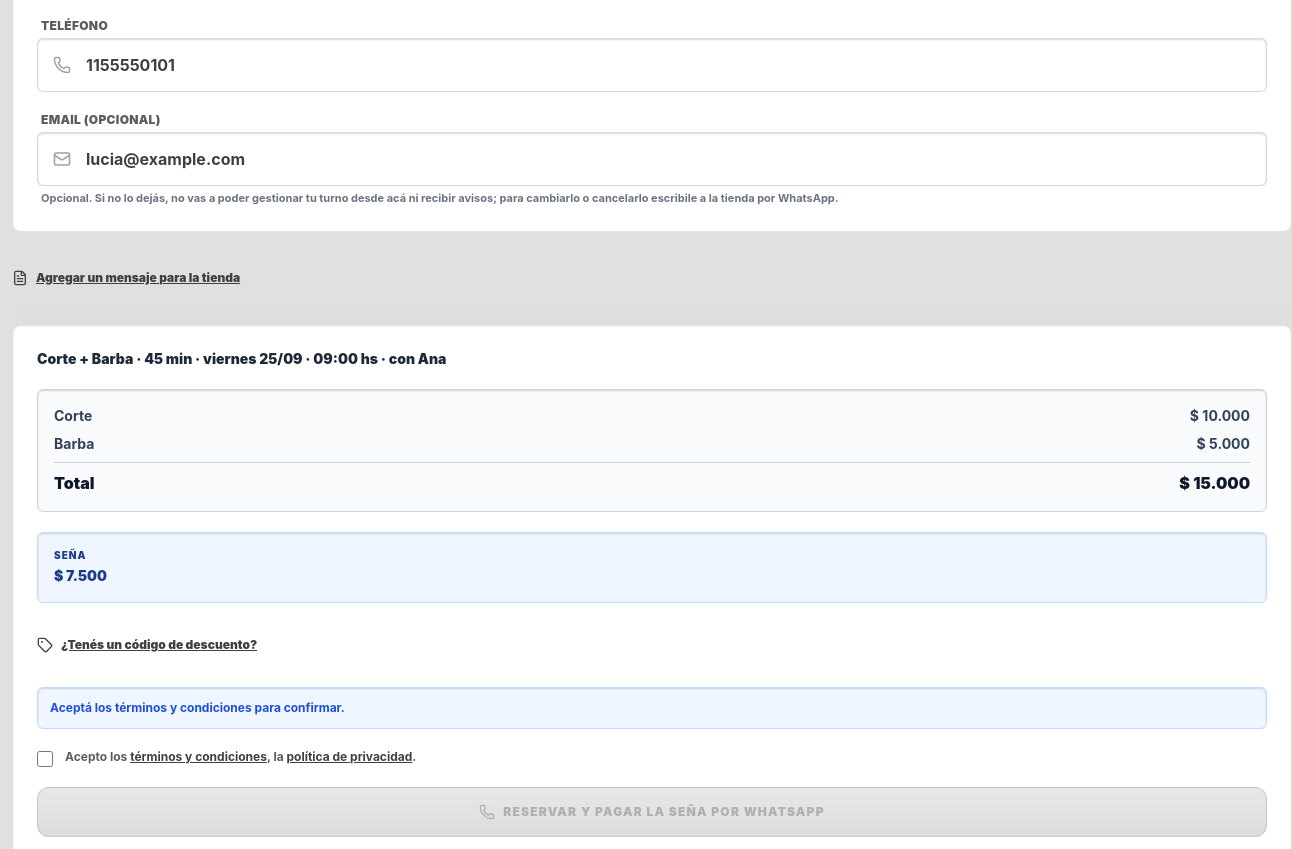
Test: BookingStepConfirmation con varios servicios › si la reserva rebota con MULTI_SERVICE_DISABLED lo explica y no culpa al horario
(page scrolled)
Step 1. Click the checkbox → [45, 759], box [37,751,53,767]
(page scrolled)
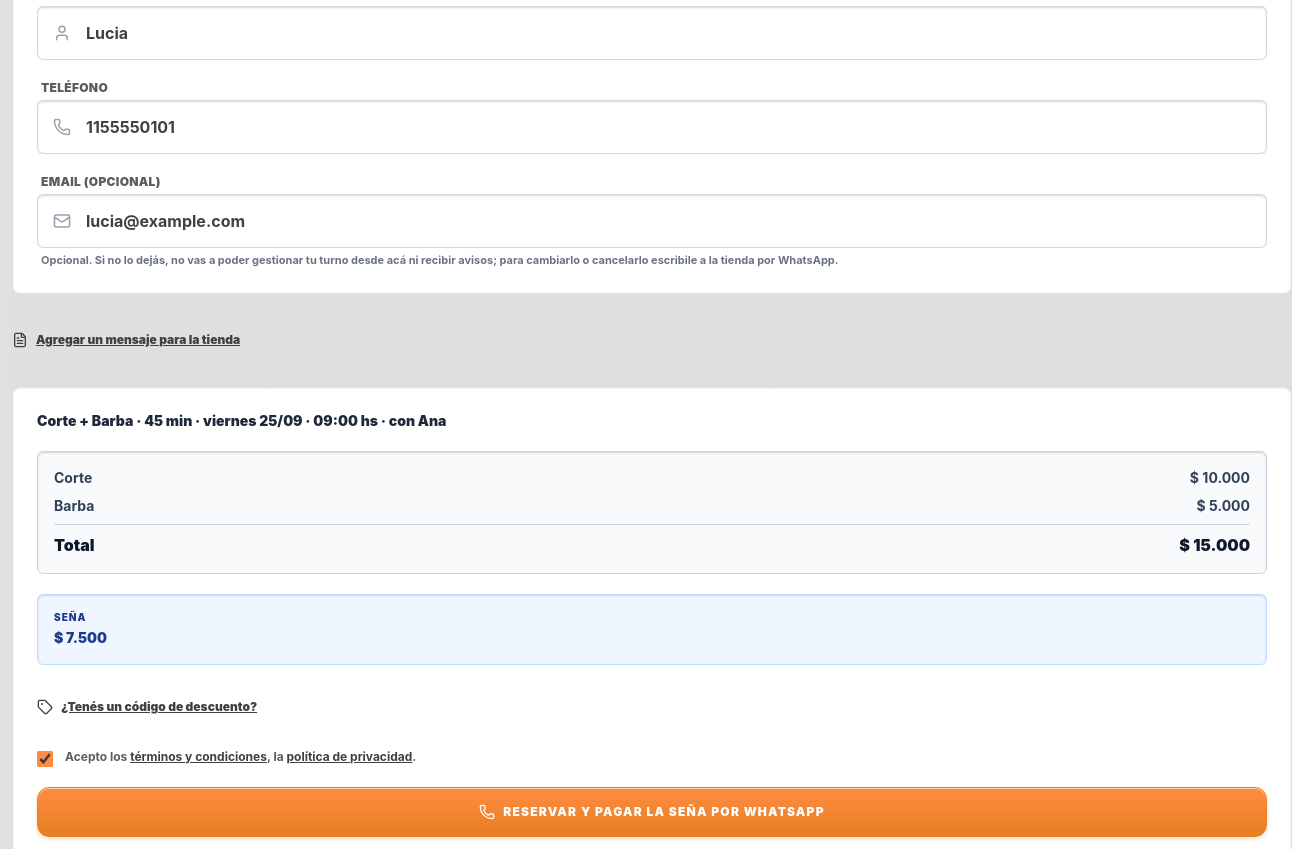
Now the button "Reservar y pagar la seña por WhatsApp" is enabled
Step 2. Click the button "Reservar y pagar la seña por WhatsApp" → [652, 812], box [37,787,1267,837]
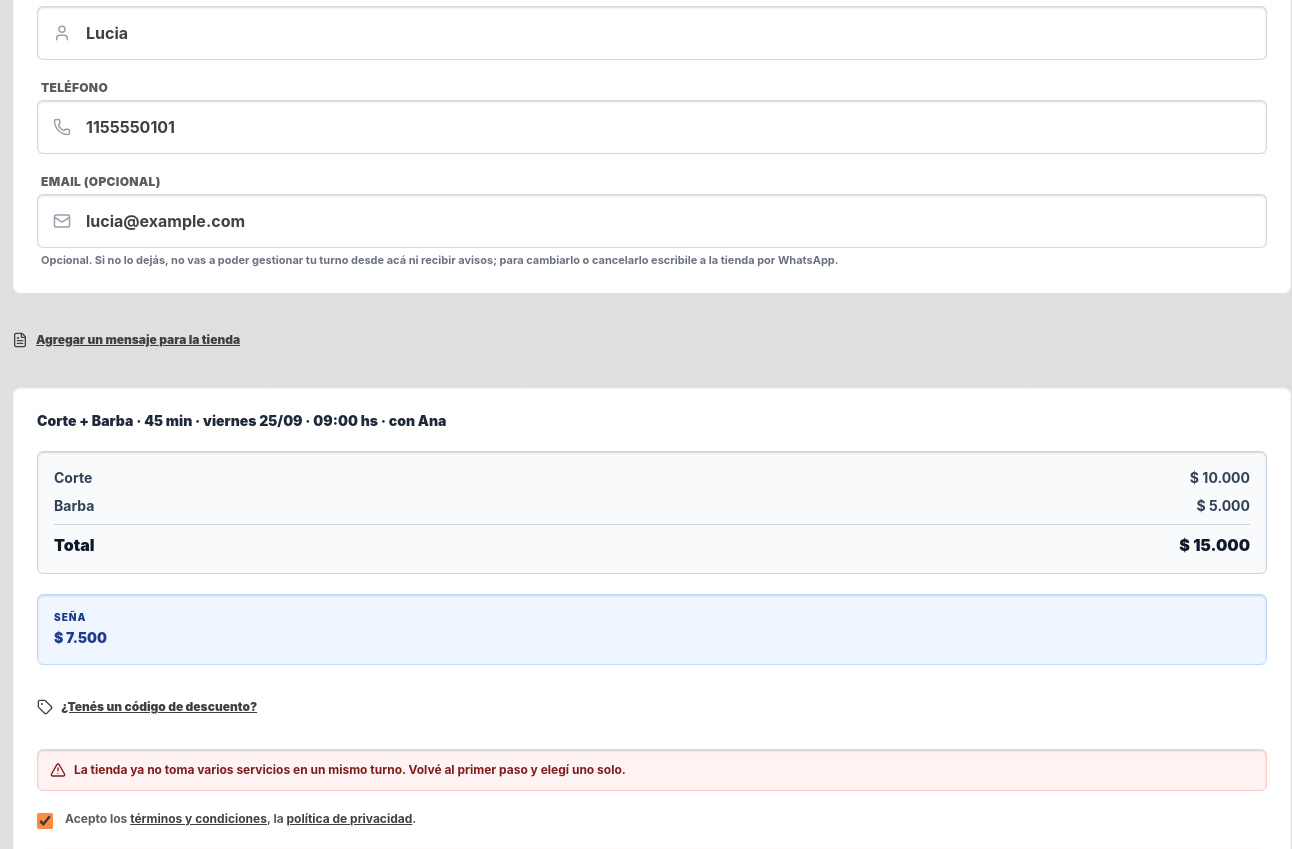
Now the text "La tienda ya no toma varios servicios en un mismo turno." is shown, box [74,762,626,777]
